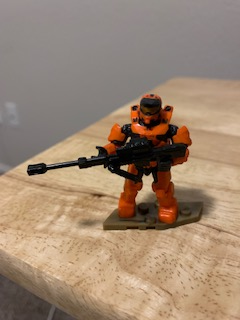spartan: (92, 94, 195, 228)
